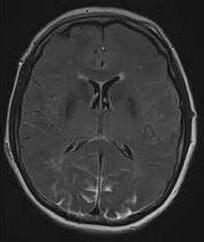Normal_Brain: (1, 1, 203, 242)
